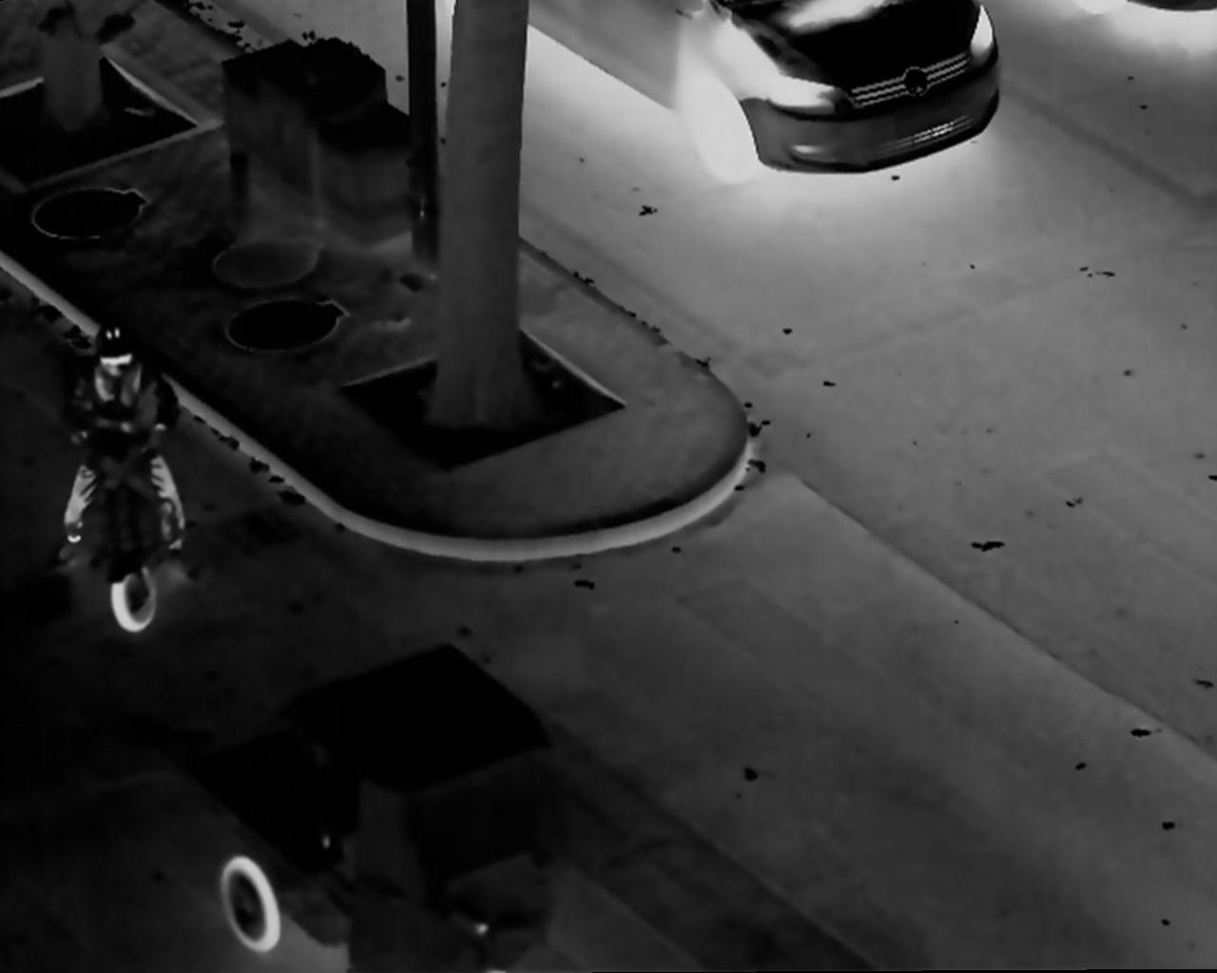person: (50, 321, 190, 577)
